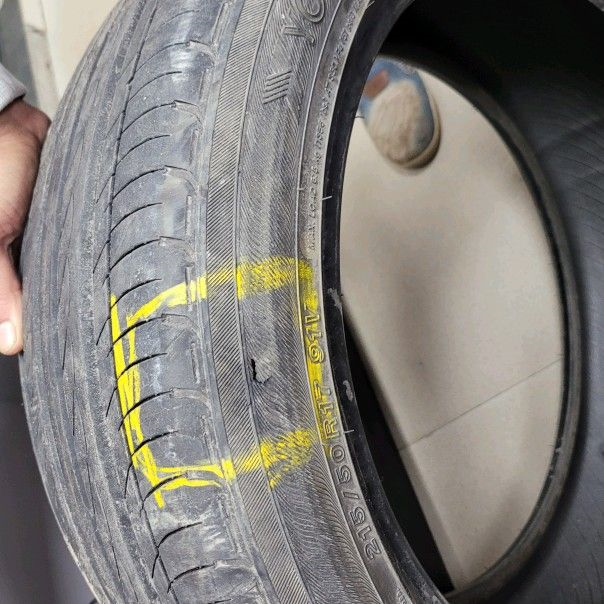CBU: (133, 286, 306, 465)
cut: (249, 356, 275, 386)
